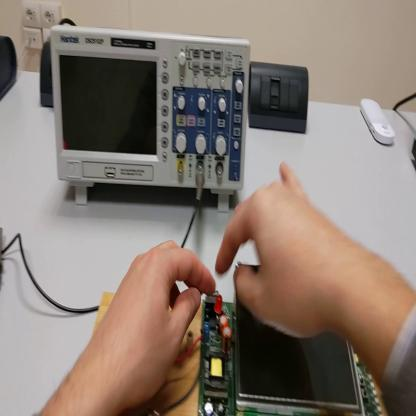hand: (218, 165, 340, 340), (96, 241, 211, 404)
low voltage board: (161, 264, 379, 416)
oscilloscope: (50, 23, 251, 213)
socket: (3, 35, 19, 108), (39, 37, 54, 107)
working area: (94, 291, 205, 414)
